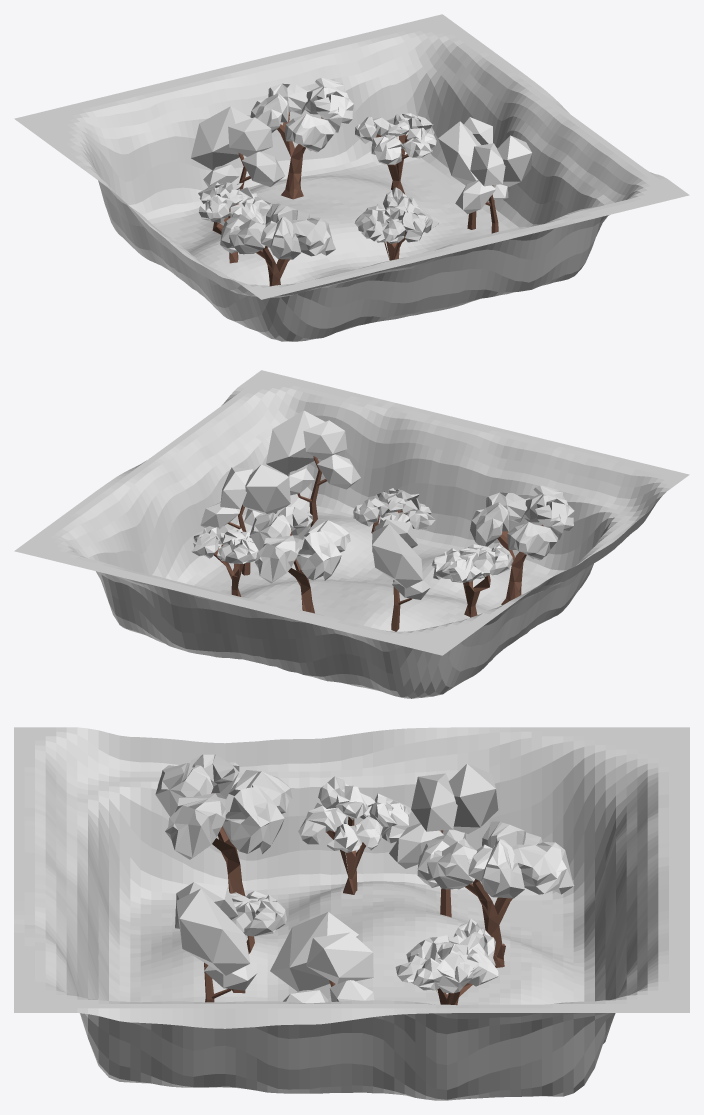
The model's file is outie_world.glb.
The picture shows the model from 3 angles, top to bottom: view 1: azimuth 30°, elevation 25°; view 2: azimuth 150°, elevation 25°; view 3: azimuth 270°, elevation 25°; orthographic projection. The views are drawn at different scales.
Visible parts, largest first — view 1: Plane, Arbre 6, Arbre 3, Arbre 2, Arbre 5, Arbre 4, Arbre 1, Arbre 7, Arbre 8; view 2: Plane, Arbre 6, Arbre 2, Arbre 5, Arbre 8, Arbre 3, Arbre 7, Arbre 4, Arbre 1; view 3: Plane, Arbre 2, Arbre 6, Arbre 8, Arbre 3, Arbre 5, Arbre 7, Arbre 4, Arbre 1.
Part boxes in pixels (x1,y1,x2,y2): Plane: (14,14,689,341); Arbre 6: (250,77,353,199); Arbre 3: (191,106,284,189); Arbre 2: (220,203,335,286); Arbre 5: (455,135,532,233); Arbre 4: (355,113,436,194); Arbre 1: (354,187,439,260); Arbre 7: (198,182,271,263); Arbre 8: (438,117,492,229); Plane: (14,370,689,698); Arbre 6: (250,506,350,613); Arbre 2: (470,485,574,604); Arbre 5: (266,410,360,527); Arbre 8: (200,464,290,575); Arbre 3: (372,519,430,631); Arbre 7: (431,543,513,617); Arbre 4: (191,525,258,596); Arbre 1: (353,488,435,533); Plane: (14,727,689,1100); Arbre 2: (155,754,292,896); Arbre 6: (417,821,574,967); Arbre 8: (270,912,374,1003); Arbre 3: (389,763,498,917); Arbre 5: (175,882,257,1002); Arbre 7: (298,776,411,894); Arbre 4: (395,918,498,1005); Arbre 1: (230,891,286,993).
Size of the model in its own units: 10 by 3.02 by 10.
Materials: 16 (3 with a texture image).
